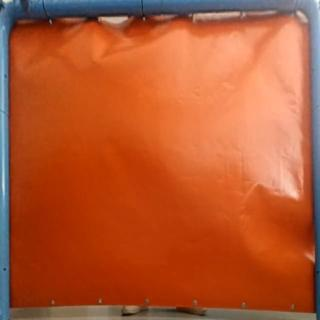Hit-hRxx: (83, 49, 106, 70)
